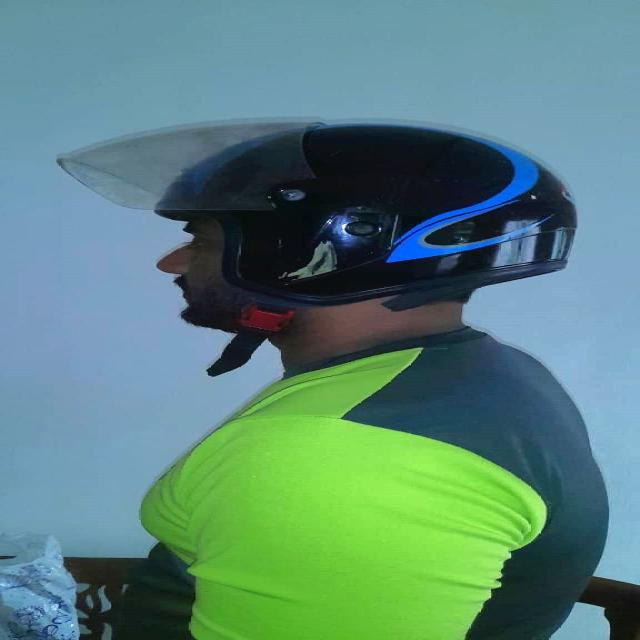With Helmet: (50, 113, 579, 304)
